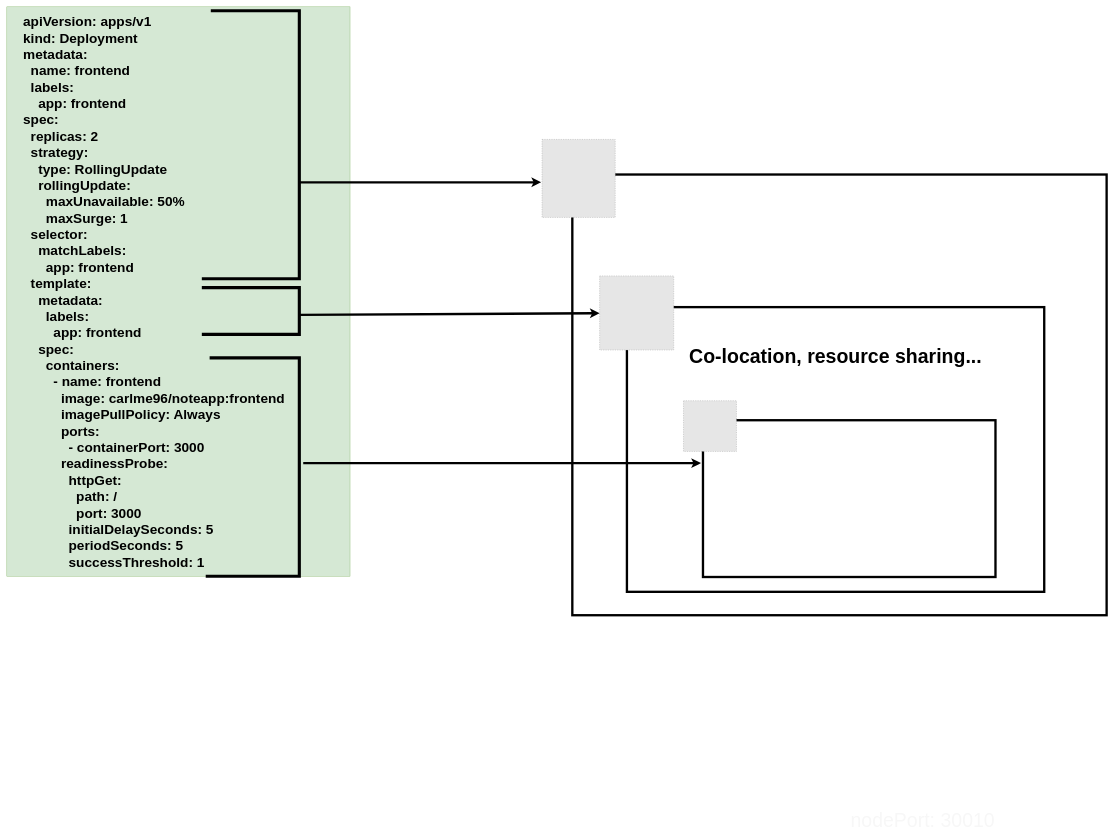
Some shapes in this 1115 by 840 pixel diagram are drawn without their labels. Grey dashed boxes stand in for pictures. The shapes that lost their labels are listed below. From the top down, each one's box as (x1, y1, x2, y2) in pixels, then its label:
(571, 173, 1108, 616): Scaling, self-healing, updates...
(702, 419, 996, 578): Container Application and dependencies
